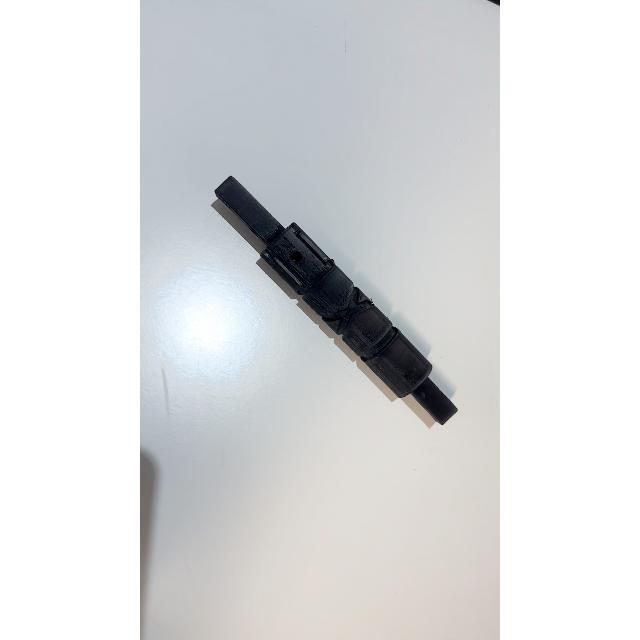Pieza_1: (176, 154, 469, 428)
